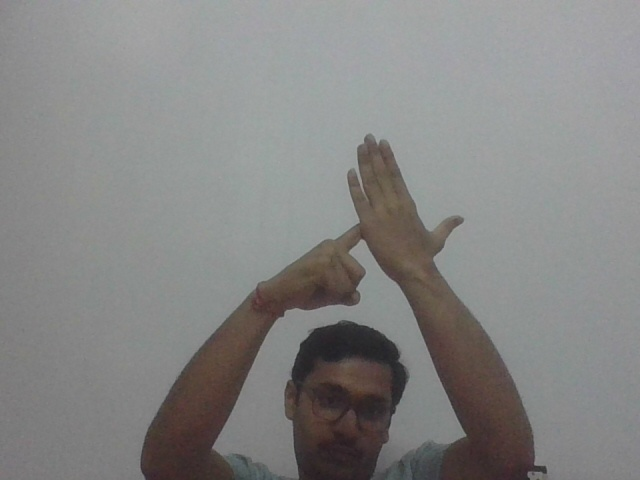R: (276, 131, 469, 312)
